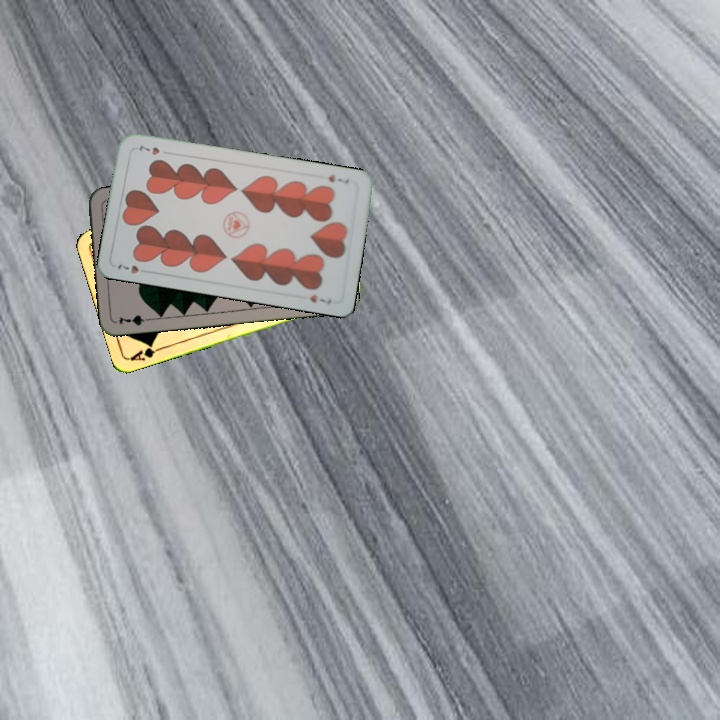G7: (115, 311, 155, 328)
GA: (126, 340, 166, 363)
H7: (113, 260, 141, 276), (324, 171, 351, 186)
